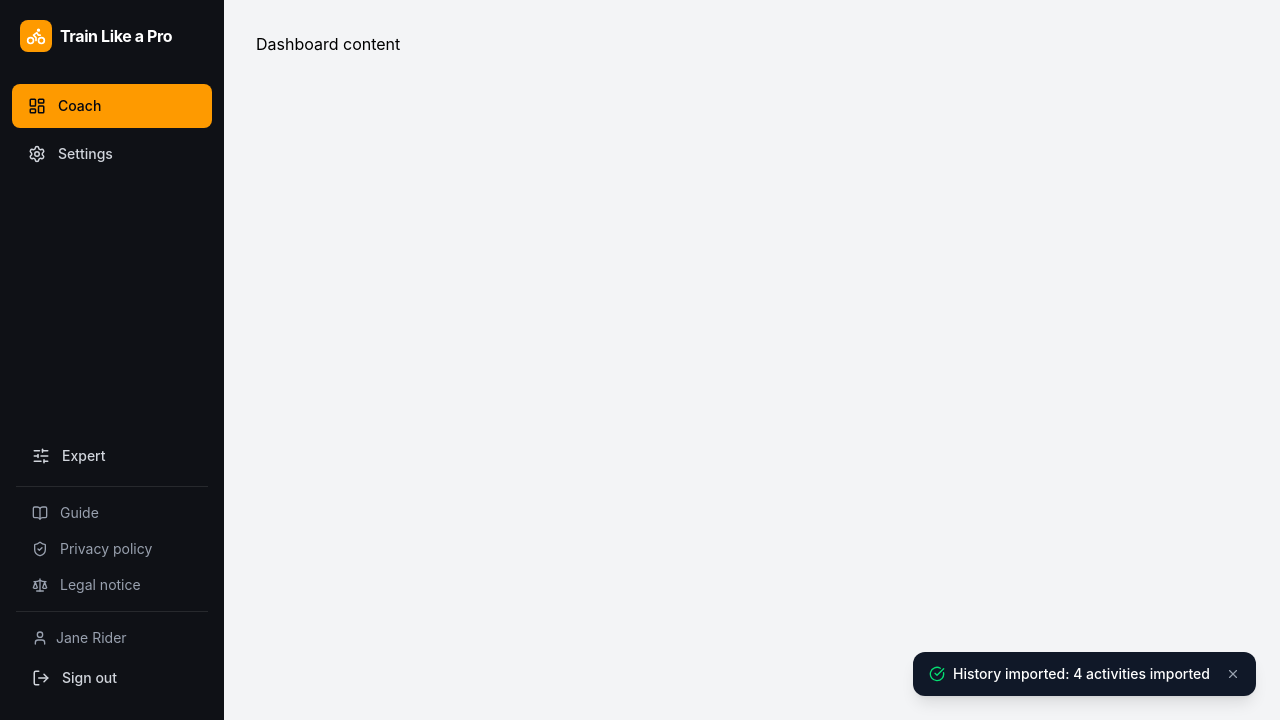
Test: Layout › dismisses the import toast via its close button
The image size is (1280, 720).
Expected: the text "History imported: 4 activities imported" is shown, [913,652,1256,696]
Click the button named "Dismiss" at [1233, 674], box [1226,667,1240,681]
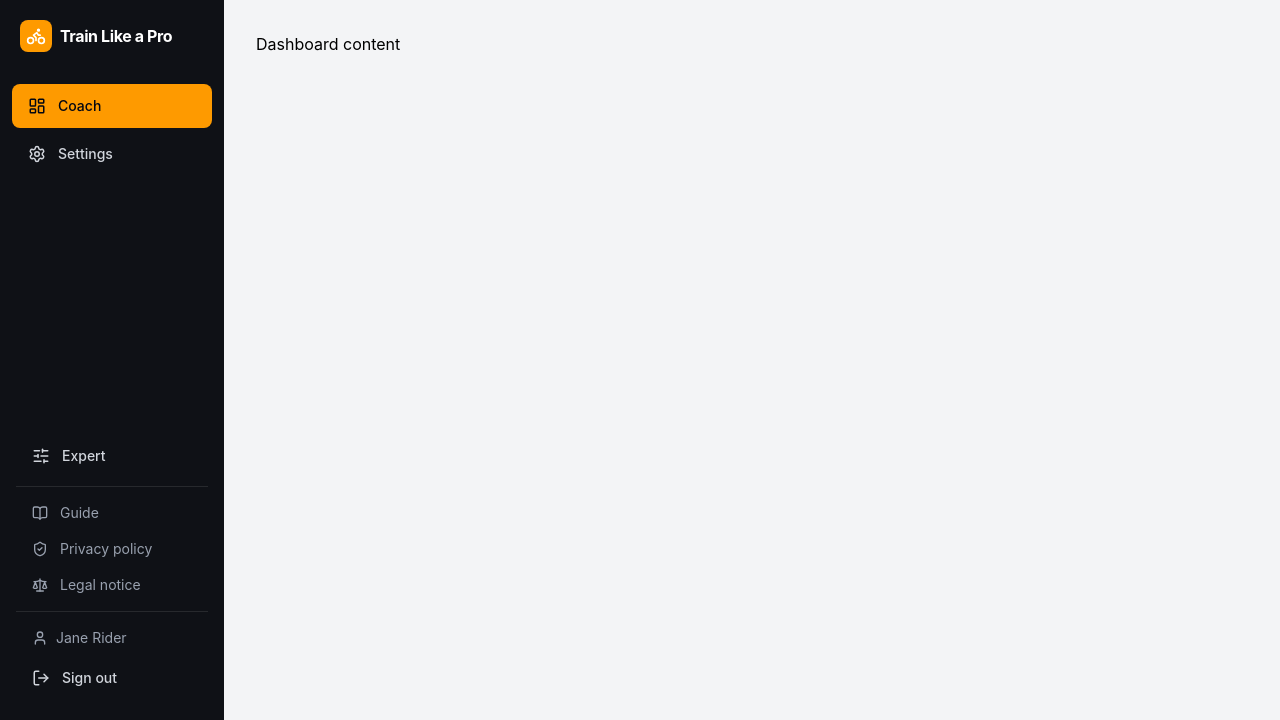
Expected: the text "History imported" is gone
